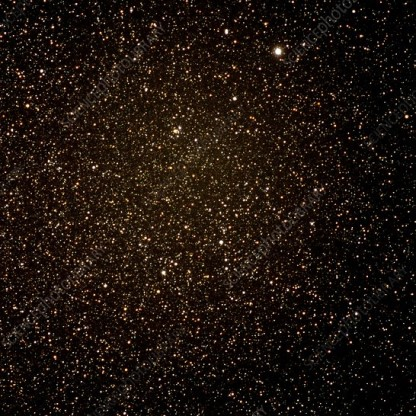Lyra: (214, 20, 237, 46), (267, 36, 289, 62), (220, 88, 240, 111), (212, 230, 233, 251), (165, 120, 185, 141), (154, 263, 173, 284)
